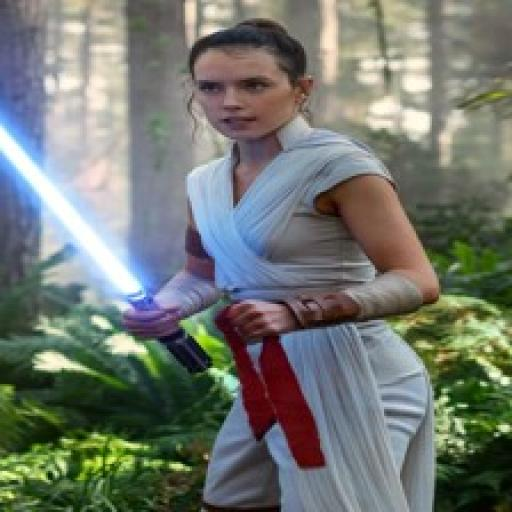human: (108, 16, 457, 512)
lightsaber: (0, 124, 211, 372)
